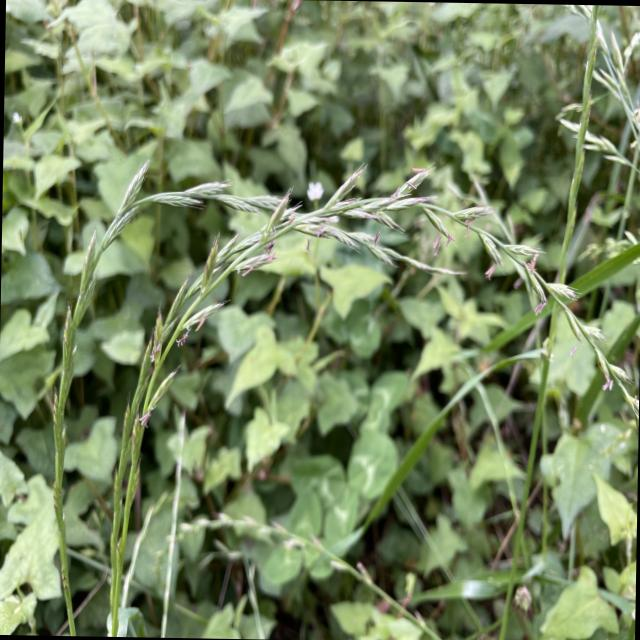Lolium: (111, 160, 640, 558), (56, 150, 466, 460)
